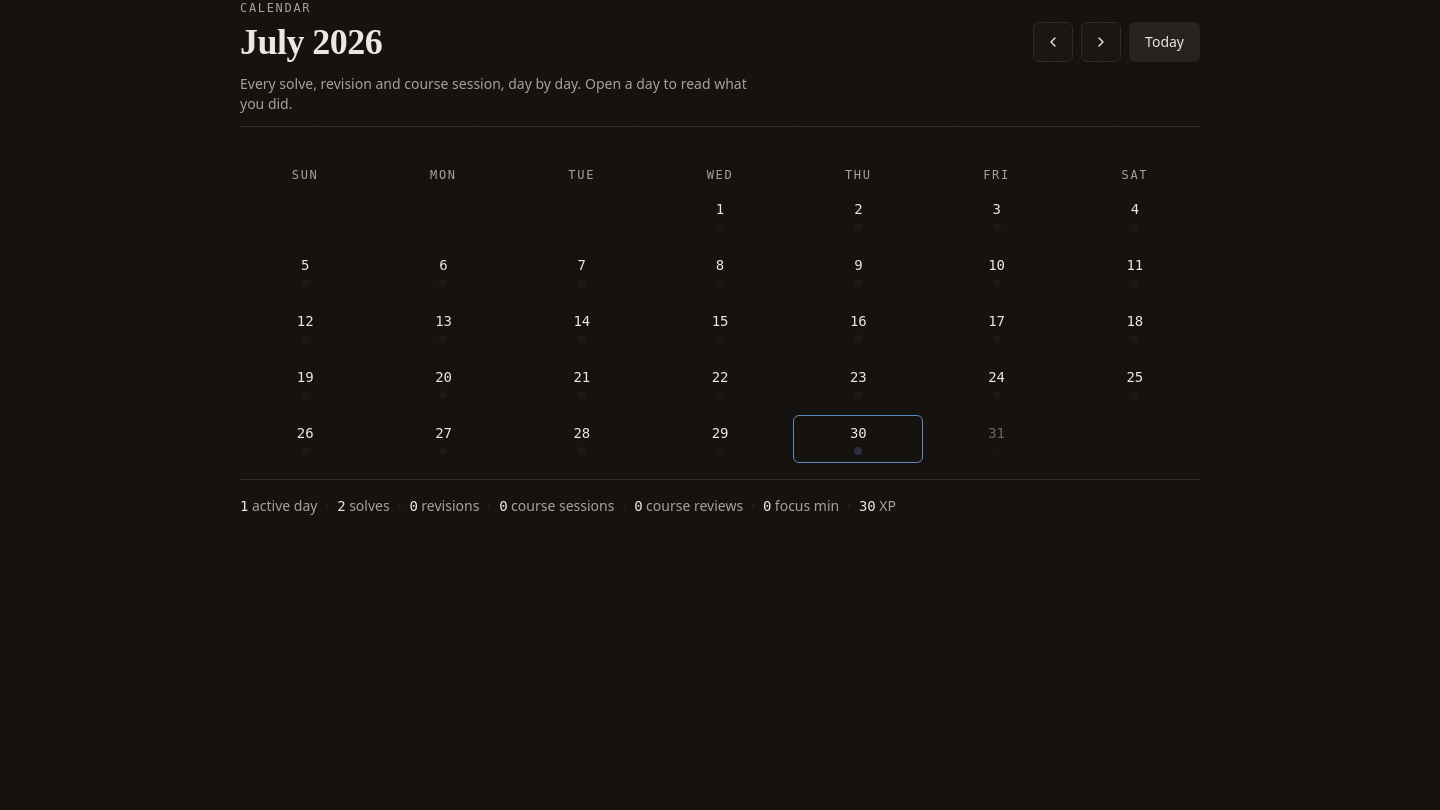
Test: CalendarPage › a fixture day (2 solves on 2026-07-30) shows an activity level and its dialog lists both titles, correct XP, and zero revisions
What coordinates should you click on to do the following:
click the button named "July 30, 2026 — 2 activities"
I would click on:
 (858, 439)
Its box is left=793, top=415, right=923, bottom=463.
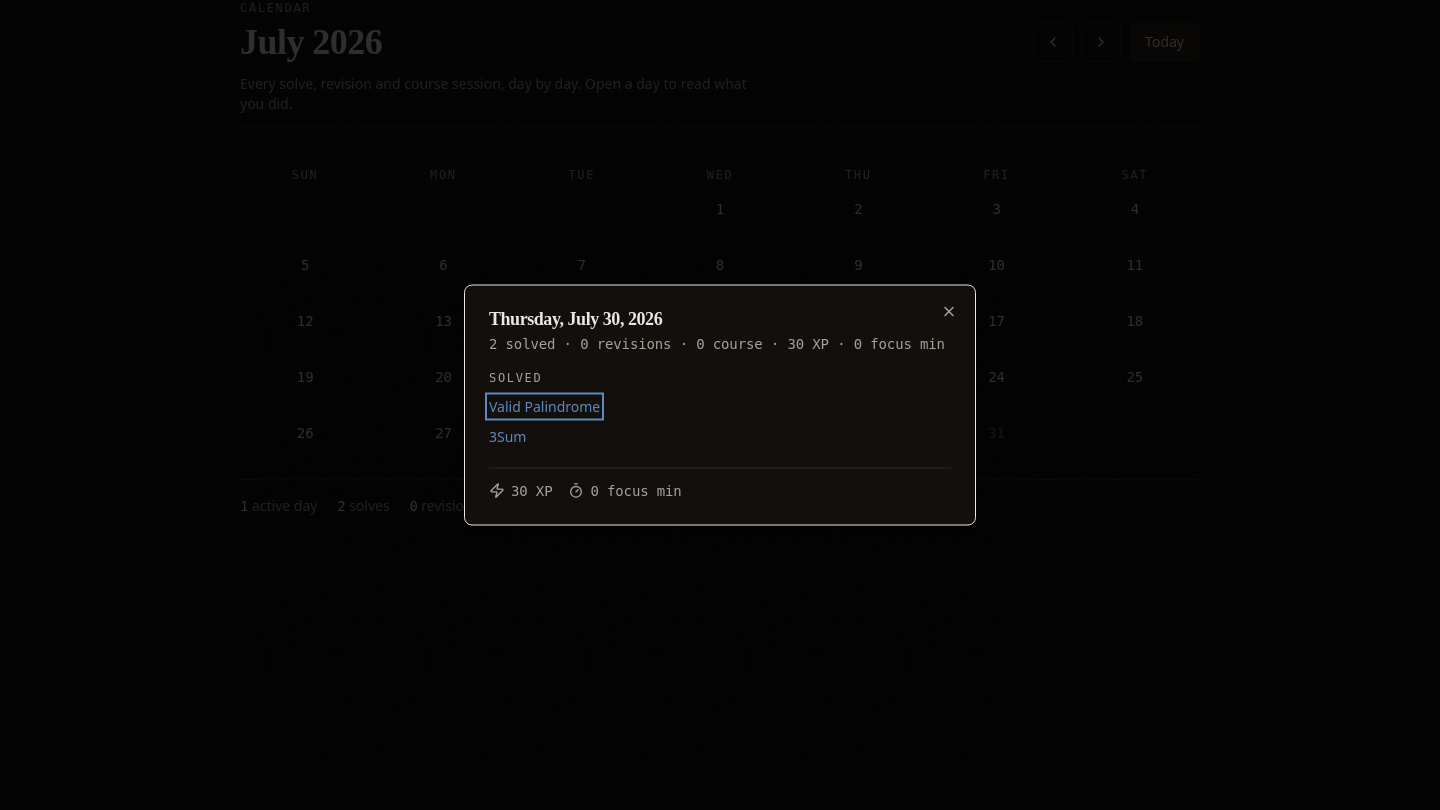
Check: the heading "Thursday, July 30, 2026" is shown, box left=489, top=308, right=662, bottom=328
Check: the button "Valid Palindrome" is shown, box left=489, top=396, right=600, bottom=416
Check: the button "3Sum" is shown, box left=489, top=426, right=526, bottom=446
